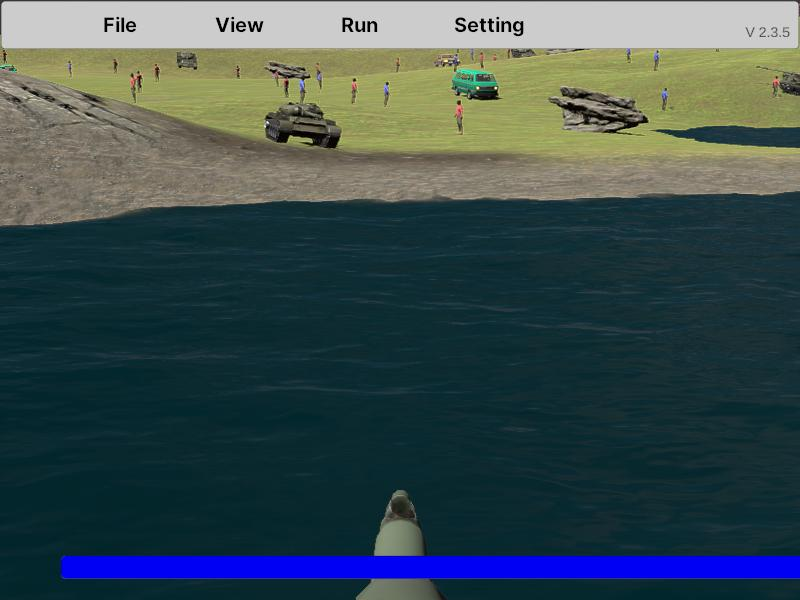Tank: (264, 101, 342, 149), (755, 66, 800, 97)
car: (452, 68, 500, 101)
